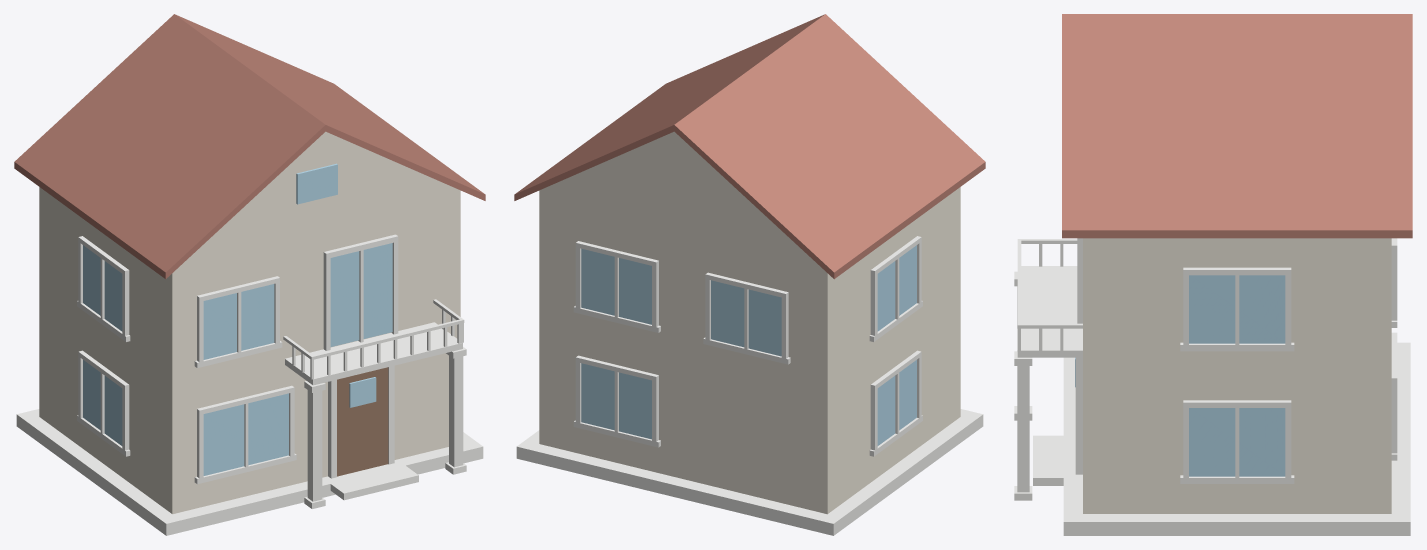
Rendered from rumah_f.fbx.
The picture shows the model from 3 angles, left to right: view 1: azimuth 30°, elevation 25°; view 2: azimuth 150°, elevation 25°; view 3: azimuth 270°, elevation 25°; orthographic projection. The views are drawn at different scales.
Visible parts, largest first — view 1: ShellWall, ShellRoof, ShellTrim, ShellGlass, ShellDoor; view 2: ShellWall, ShellRoof, ShellTrim, ShellGlass; view 3: ShellRoof, ShellWall, ShellTrim, ShellGlass.
Boxes of the visible parts, x1,y1,x2,y2 form: ShellWall: [39, 131, 460, 514]; ShellRoof: [14, 14, 485, 279]; ShellTrim: [16, 234, 483, 535]; ShellGlass: [83, 163, 392, 475]; ShellDoor: [337, 367, 388, 476]; ShellWall: [539, 131, 960, 514]; ShellRoof: [514, 14, 985, 279]; ShellTrim: [516, 236, 983, 535]; ShellGlass: [581, 245, 916, 445]; ShellRoof: [1062, 14, 1412, 238]; ShellWall: [1083, 238, 1391, 513]; ShellTrim: [1014, 238, 1410, 535]; ShellGlass: [1075, 275, 1285, 476].
Size of the model in its own units: 22.2 by 24.75 by 20.67.
